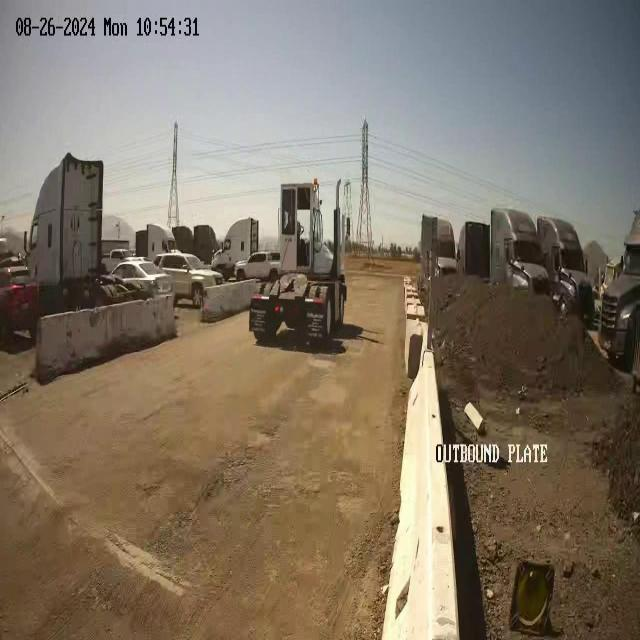BOBTAIL: (248, 177, 348, 348)
